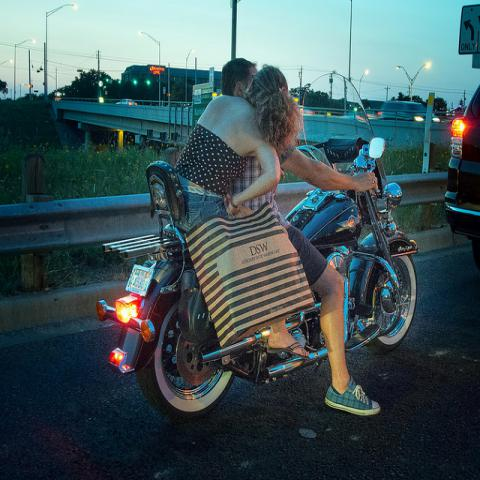car: (445, 83, 479, 273), (380, 102, 441, 122), (116, 99, 137, 106)
motorcycle: (96, 136, 418, 425)
